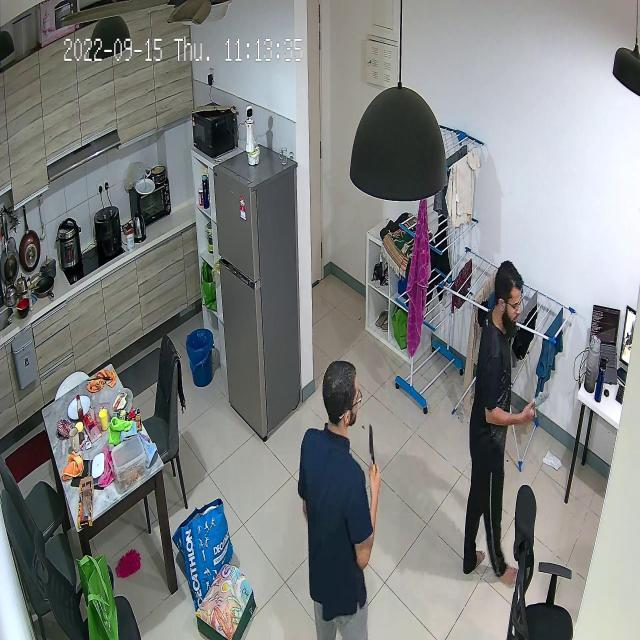Knife: (525, 386, 557, 416), (363, 421, 381, 465)
